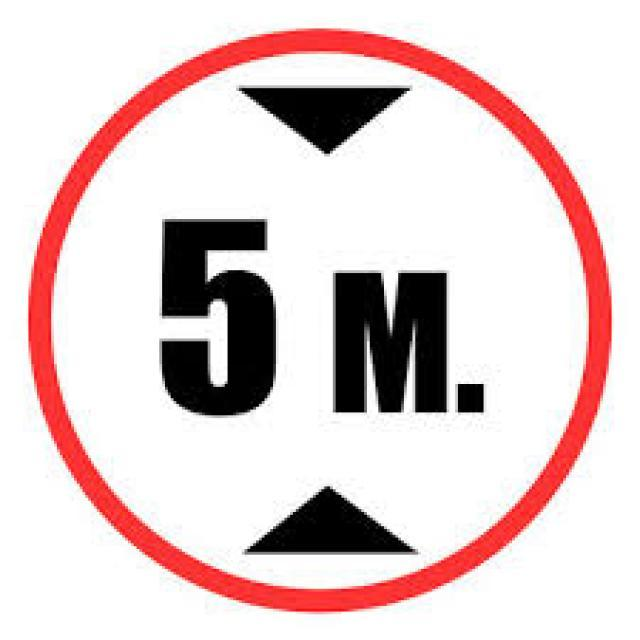height limit: (27, 24, 617, 616)
